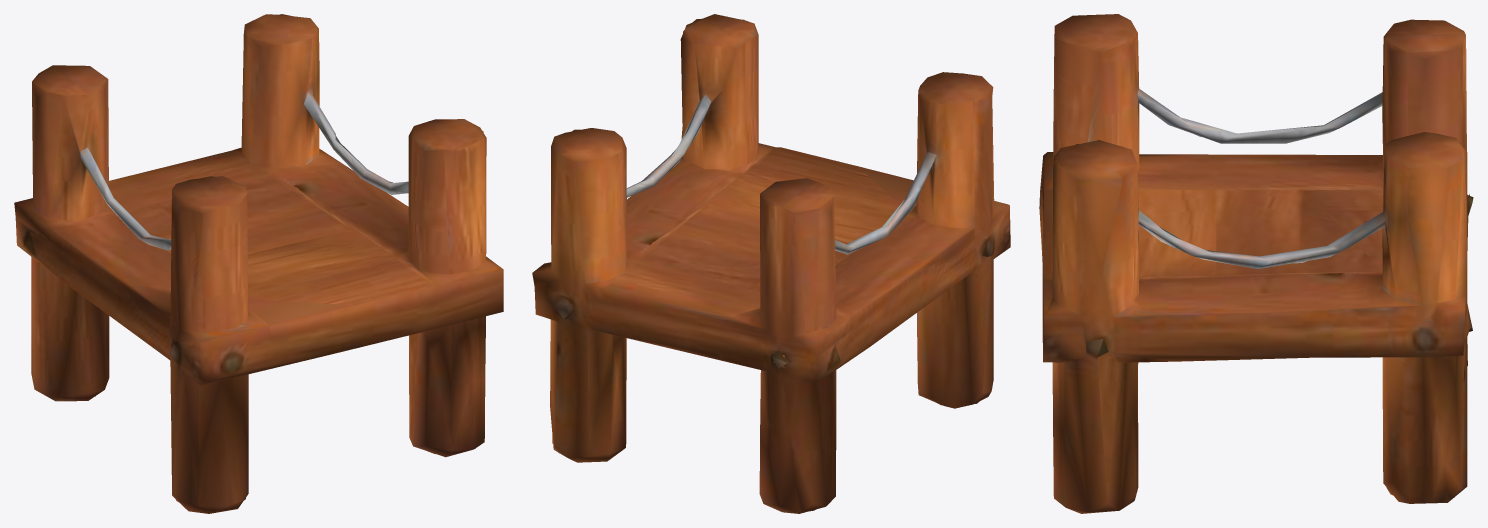
File: lg-harbour-dock.glb
3 renders of one model, left to right at view 1: azimuth 30°, elevation 25°; view 2: azimuth 150°, elevation 25°; view 3: azimuth 270°, elevation 25°, orthographic. The views are drawn at different scales.
Parts seen in each view (by area): view 1: geometry_0; view 2: geometry_0; view 3: geometry_0.
Part boxes in pixels (x1,y1,x2,y2): geometry_0: [14, 14, 503, 513]; geometry_0: [532, 14, 1010, 513]; geometry_0: [1039, 14, 1473, 513].
Bounding box in the file's own units: 0.9116 × 0.8742 × 1.
1 material, 1 textured.
